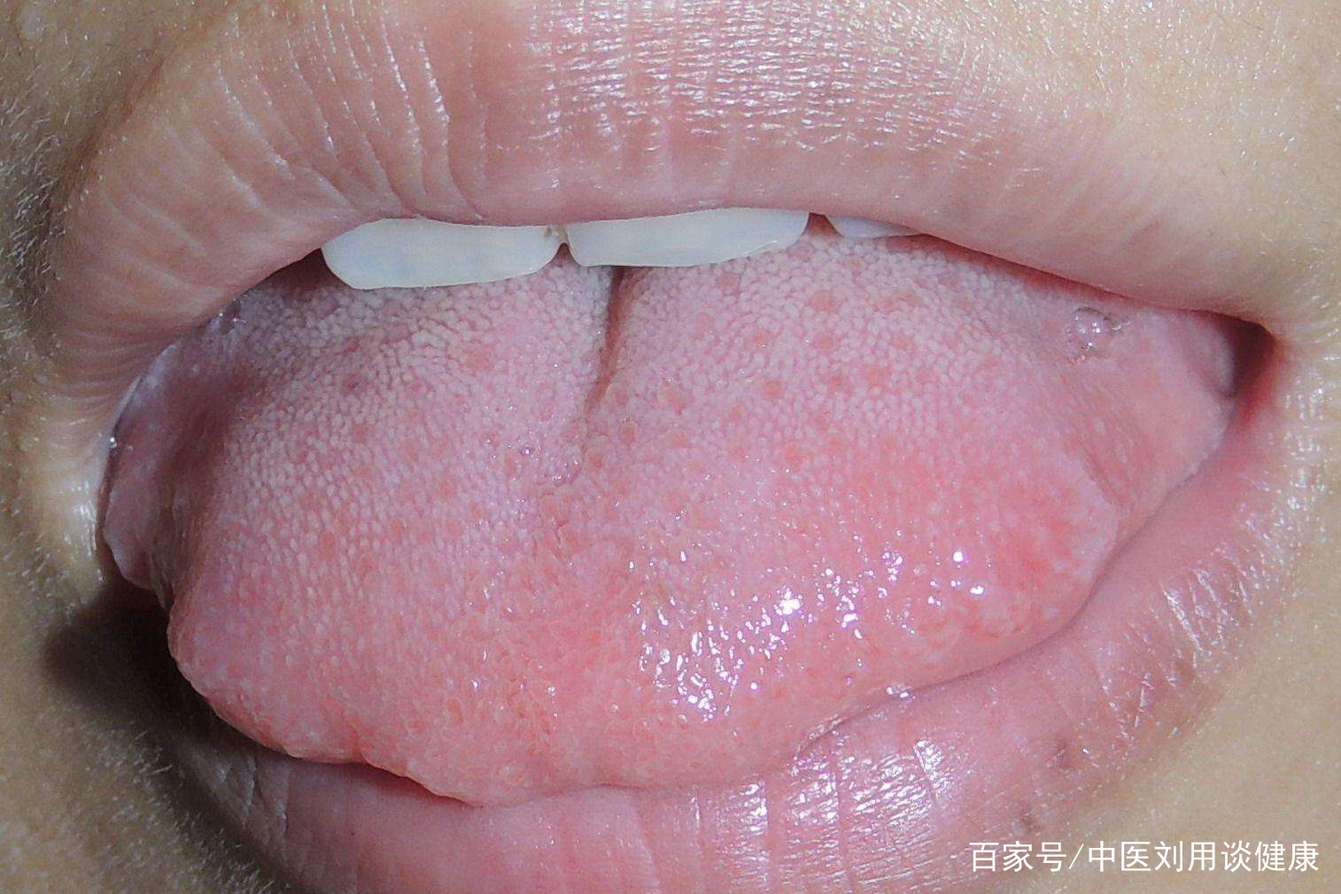baitaishe: (106, 223, 1254, 807)
chihenshe: (109, 461, 299, 759)
liewenshe: (588, 267, 632, 408)
